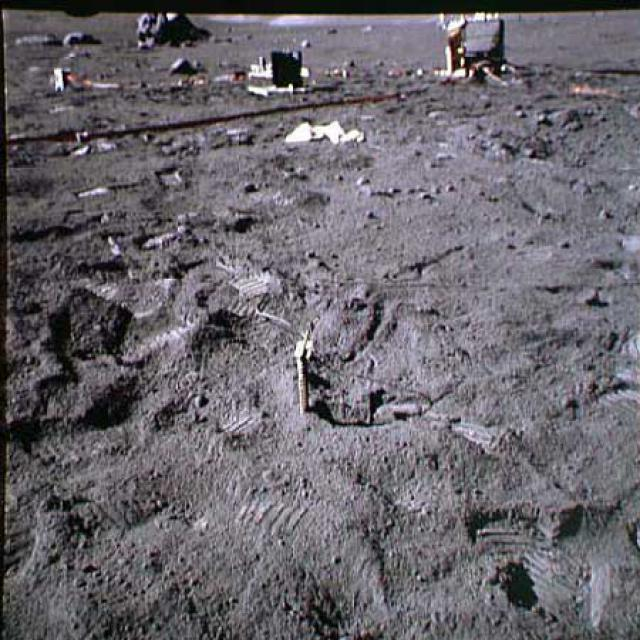artifact: (420, 4, 522, 89), (274, 316, 334, 419), (236, 40, 318, 105)
crater: (455, 94, 639, 188)
rock: (126, 5, 209, 52), (7, 22, 54, 51), (161, 52, 210, 78), (58, 26, 98, 48)
